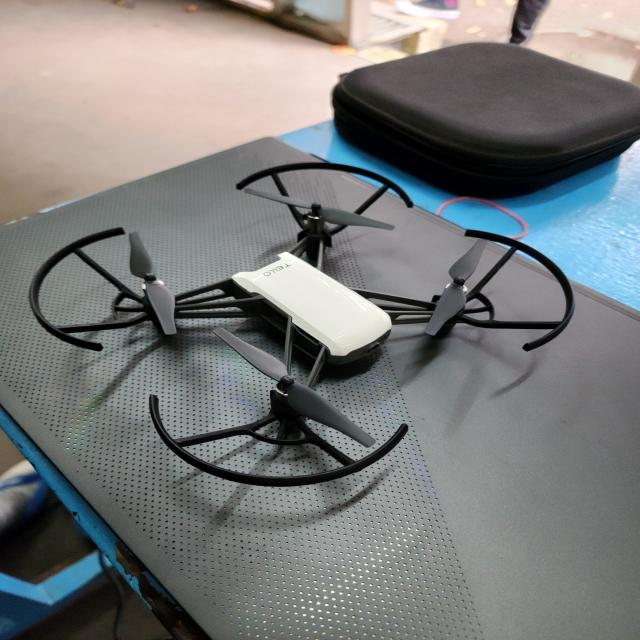drone: (19, 157, 583, 494)
